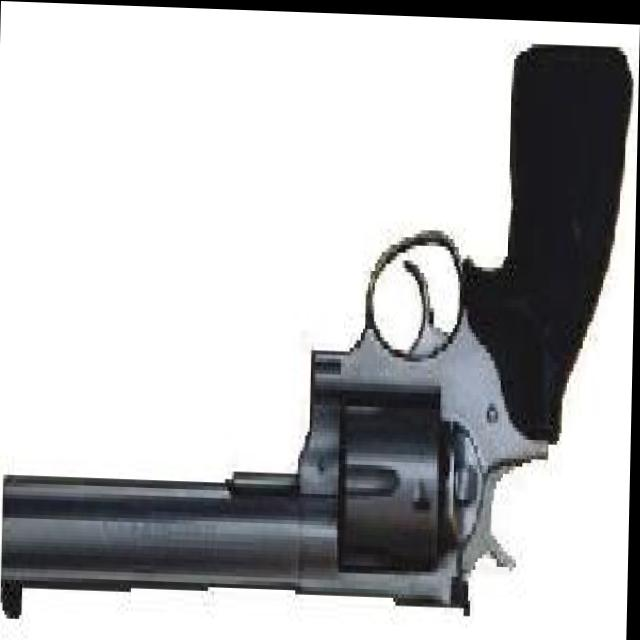handgun: (4, 27, 636, 640)
